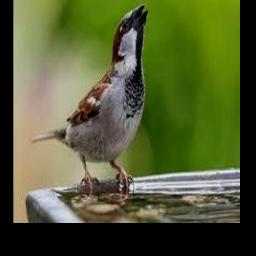Sparrow: (31, 4, 147, 194)
